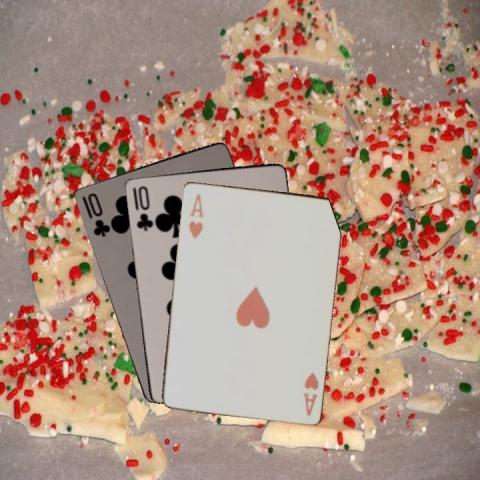10c: (78, 189, 111, 239), (129, 183, 154, 232)
Ah: (300, 369, 320, 417), (185, 191, 204, 241)
